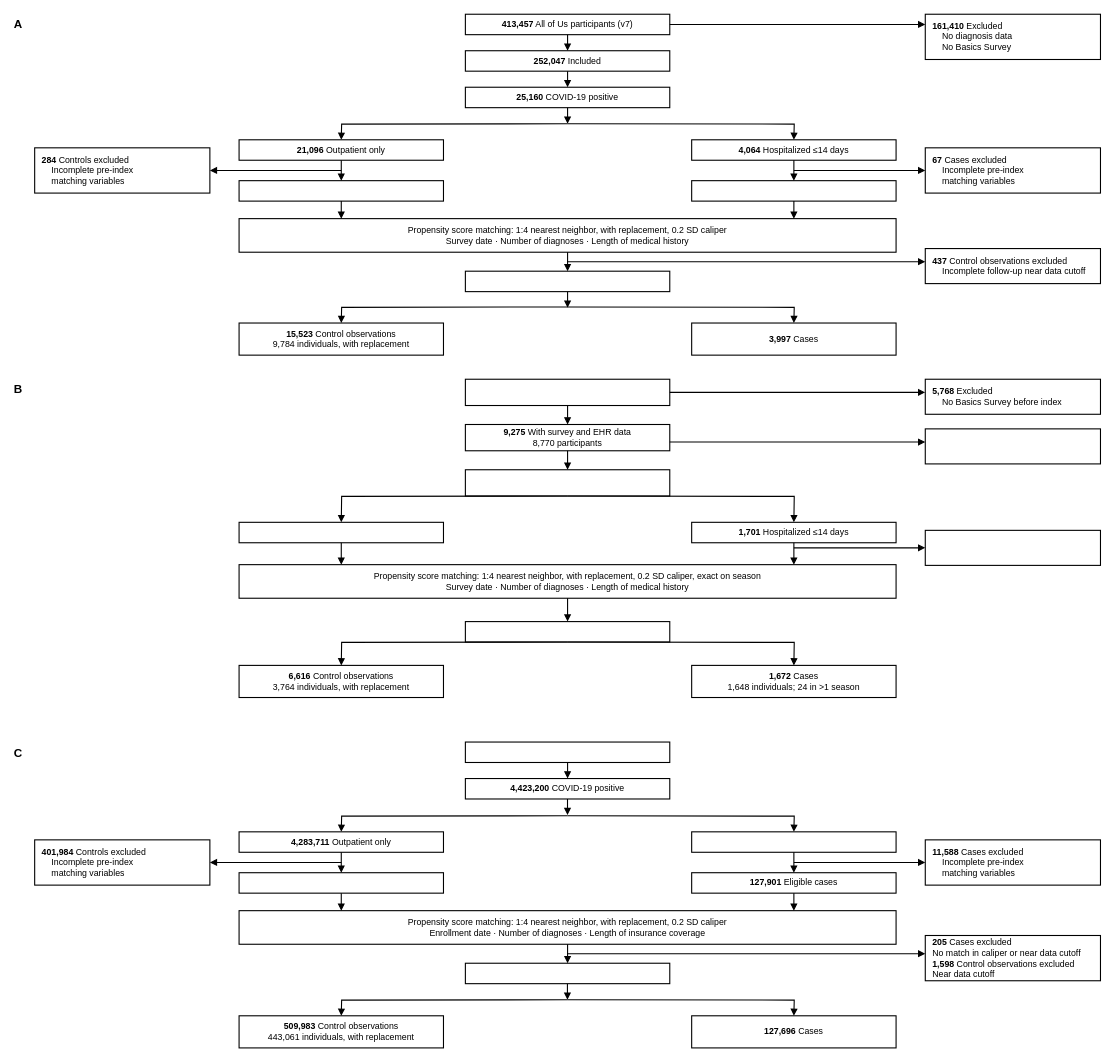
Some shapes in this 1113 by 1061 pixel diagram are drawn without their labels. Each missing label, with the centre of its shape:
"106 Excluded No pre-index diagnosis record" belongs at point 1012,446.
"139,489 Hospitalized ≤14 days" belongs at point 793,841.
"15,043 Influenza person-seasons 2018-19 to 2023-24 (v9)" belongs at point 567,392.
"19,520 Observations in 3,997 strata" belongs at point 567,281.
"20,812 Eligible controls" belongs at point 341,190.
"29 Cases excluded No match within caliper" belongs at point 1012,547.
"3,881,727 Eligible controls" belongs at point 341,882.
"3,997 Eligible cases" belongs at point 793,190.
"637,679 Observations in 127,696 strata" belongs at point 567,973.
"7,468 Influenza-positive, not hospitalized" belongs at point 341,532.
"8,288 Observations in 1,672 strata" belongs at point 567,631.
"9,169 Entered matching 8,668 participants" belongs at point 567,482.
"MarketScan Commercial Claims, 2020–2023" belongs at point 567,752.
